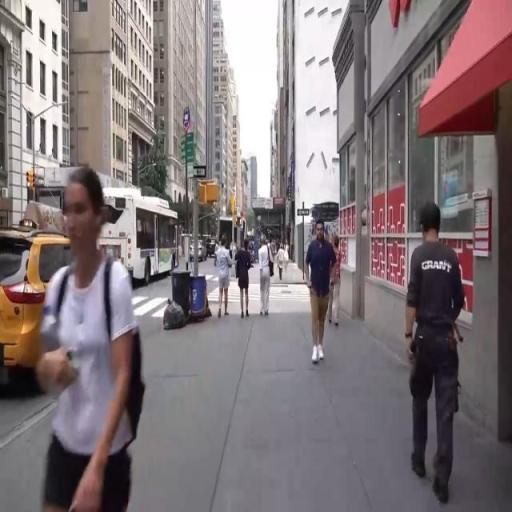person: (24, 161, 154, 512), (399, 200, 469, 507), (304, 219, 330, 366), (257, 237, 275, 326), (329, 231, 345, 326), (239, 235, 256, 321), (217, 235, 232, 326), (279, 245, 288, 284), (284, 240, 294, 268), (215, 240, 220, 267), (270, 238, 275, 258)
